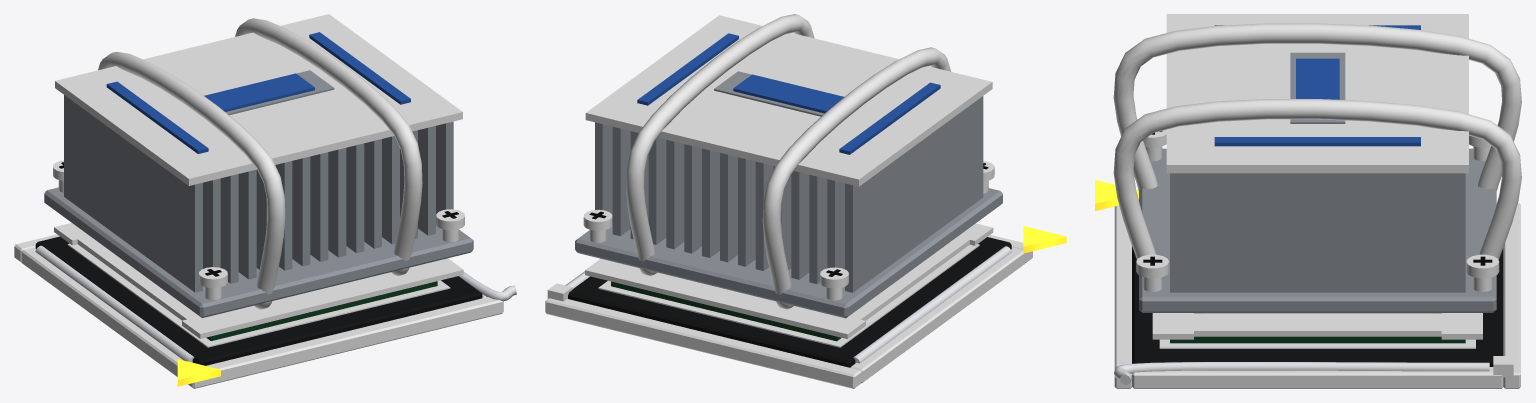
File: hwm_cpu_xeon_silver_4314.glb
The picture shows the model from 3 angles, left to right: view 1: azimuth 30°, elevation 25°; view 2: azimuth 150°, elevation 25°; view 3: azimuth 270°, elevation 25°; orthographic projection. The views are drawn at different scales.
Parts seen in each view (by area): view 1: Cooler, Socket, Frame, CPU, Screw_1, Screw_3, Lever; view 2: Cooler, Socket, Frame, CPU, Screw_2, Screw_0; view 3: Cooler, Socket, Frame, Lever, CPU, Screw_2, Screw_3, Screw_1, Screw_0.
Part boxes in pixels (bbox=[...]): Cooler: bbox=[44, 14, 473, 317]; Socket: bbox=[14, 234, 503, 388]; Frame: bbox=[54, 223, 463, 338]; CPU: bbox=[206, 281, 437, 340]; Screw_1: bbox=[199, 267, 227, 300]; Screw_3: bbox=[436, 209, 464, 242]; Lever: bbox=[459, 272, 516, 301]; Cooler: bbox=[575, 14, 1002, 318]; Socket: bbox=[545, 226, 1066, 388]; Frame: bbox=[585, 223, 993, 338]; CPU: bbox=[611, 281, 841, 341]; Screw_2: bbox=[583, 209, 612, 242]; Screw_0: bbox=[820, 267, 848, 300]; Cooler: bbox=[1113, 14, 1521, 312]; Socket: bbox=[1095, 180, 1520, 388]; Frame: bbox=[1152, 313, 1482, 339]; Lever: bbox=[1114, 362, 1489, 384]; CPU: bbox=[1170, 313, 1465, 343]; Screw_2: bbox=[1466, 254, 1499, 291]; Screw_3: bbox=[1136, 254, 1169, 291]; Screw_1: bbox=[1143, 129, 1166, 161]; Screw_0: bbox=[1469, 135, 1490, 161].
Size of the model in its own units: 0.1338 by 0.0775 by 0.1241.
